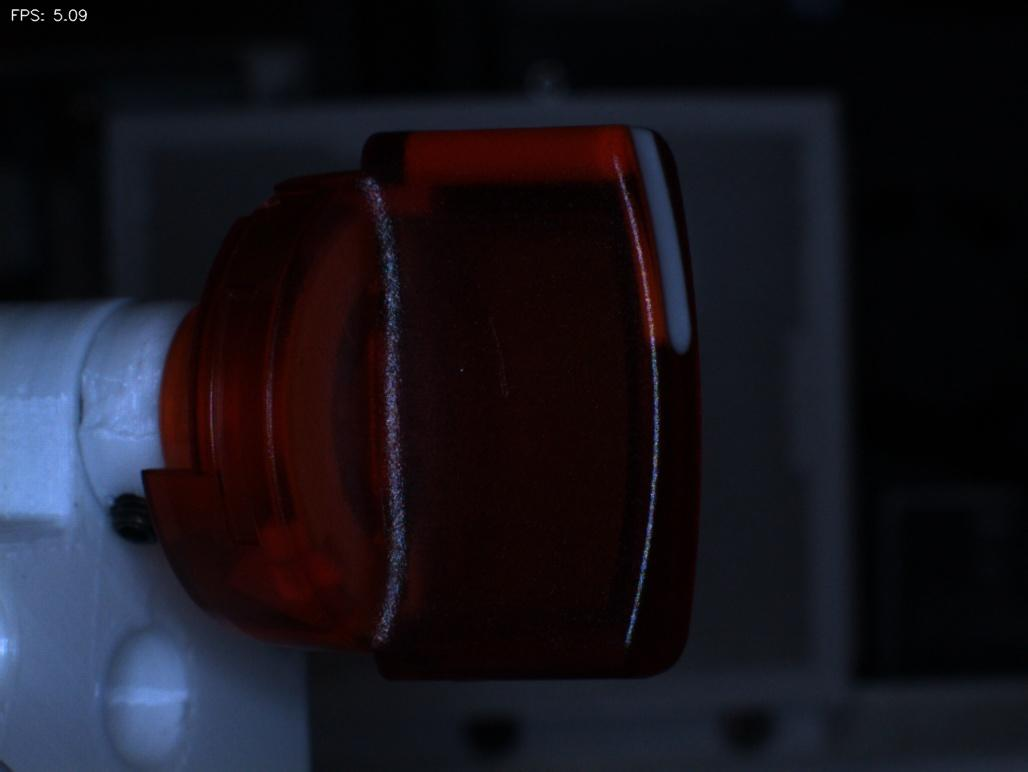Givrage: (452, 295, 548, 432)
